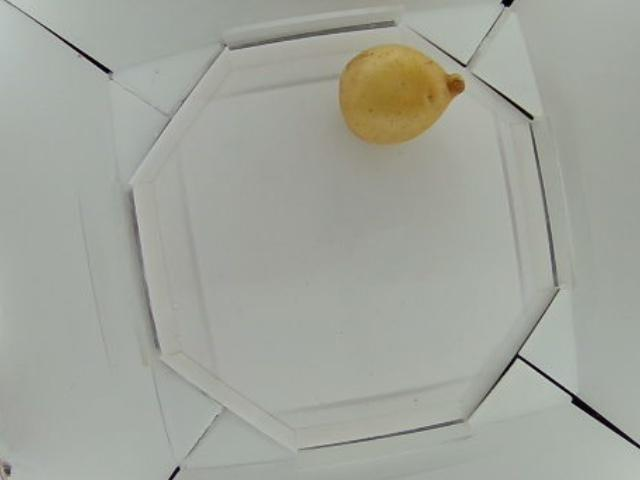Potato: (340, 44, 464, 145)
